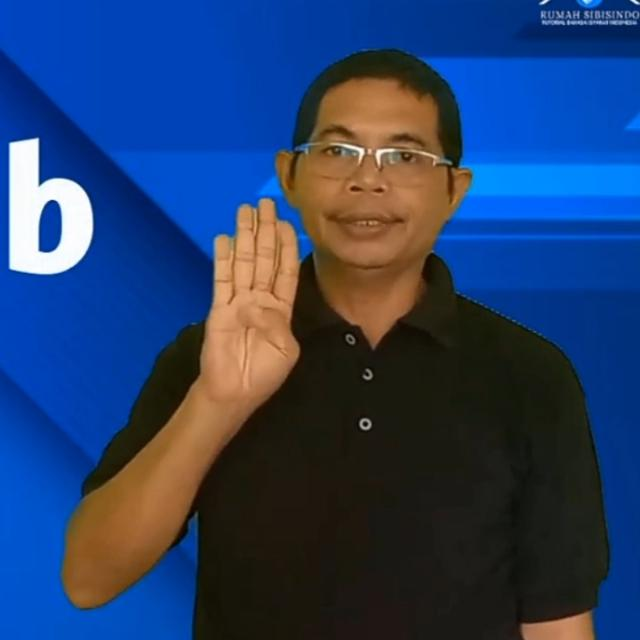B: (205, 197, 302, 415)
